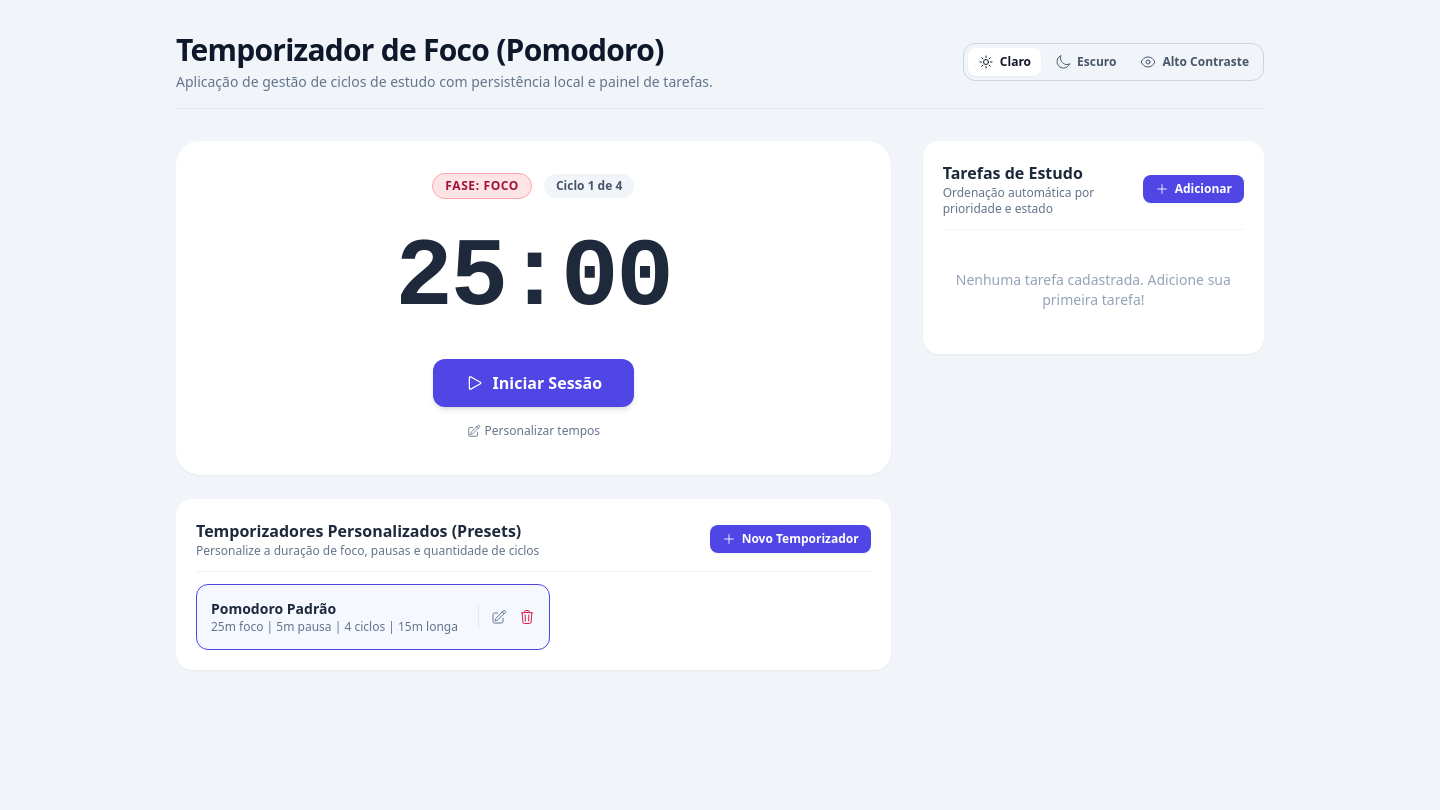
Scenario: App Integrado (Pomodoro + Presets + Tarefas) › deve permitir adicionar uma nova tarefa com valores padrao (RN-12)
Click the button with aria-label "+ Adicionar": (1193, 189) [1143,175,1244,203]
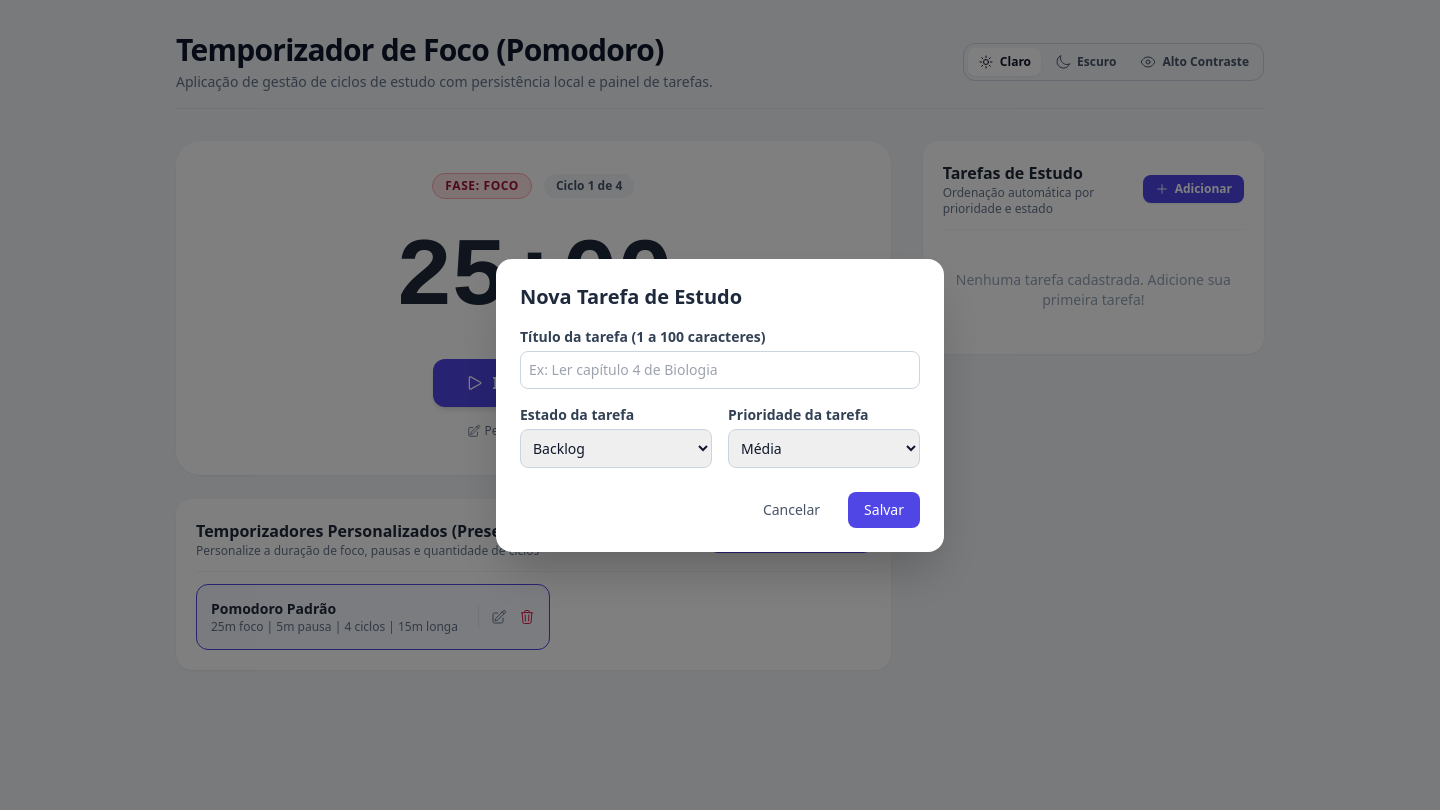
In the field labelled "Título da tarefa (1 a 100 caracteres)": (720, 370) [520,350,920,388], type "Estudar TypeScript estrito"
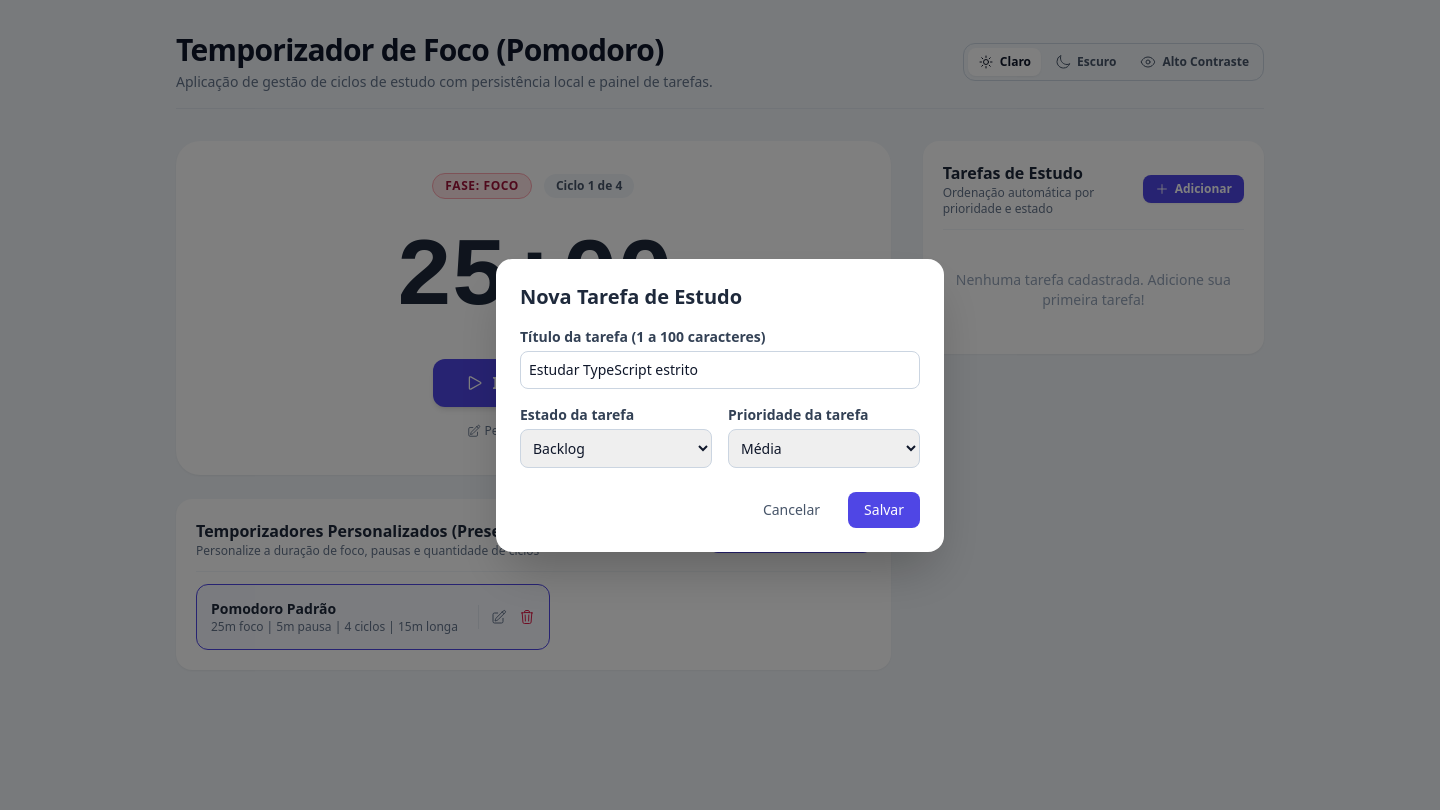
Click the button "Salvar": (884, 510) [848,492,920,528]
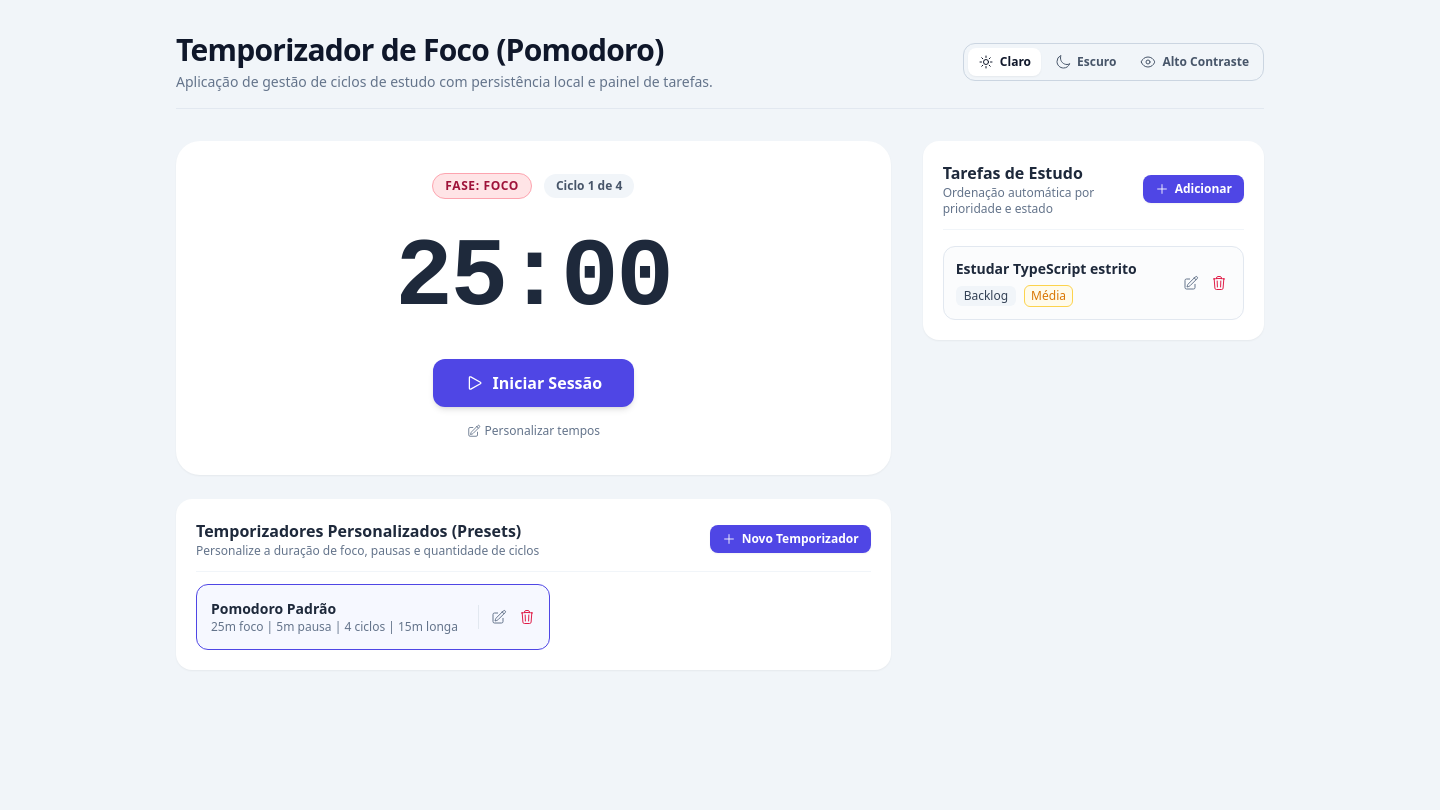
Result: the text "Estudar TypeScript estrito" is shown at [956,259,1137,279]
